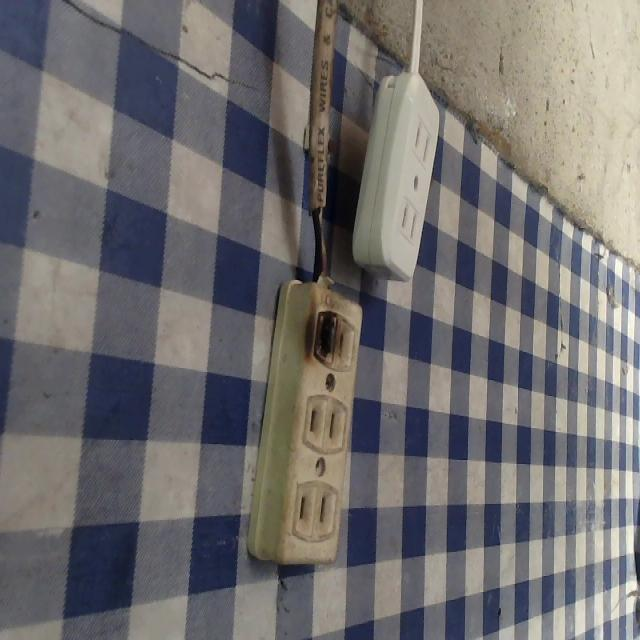-: (310, 298, 343, 371)
